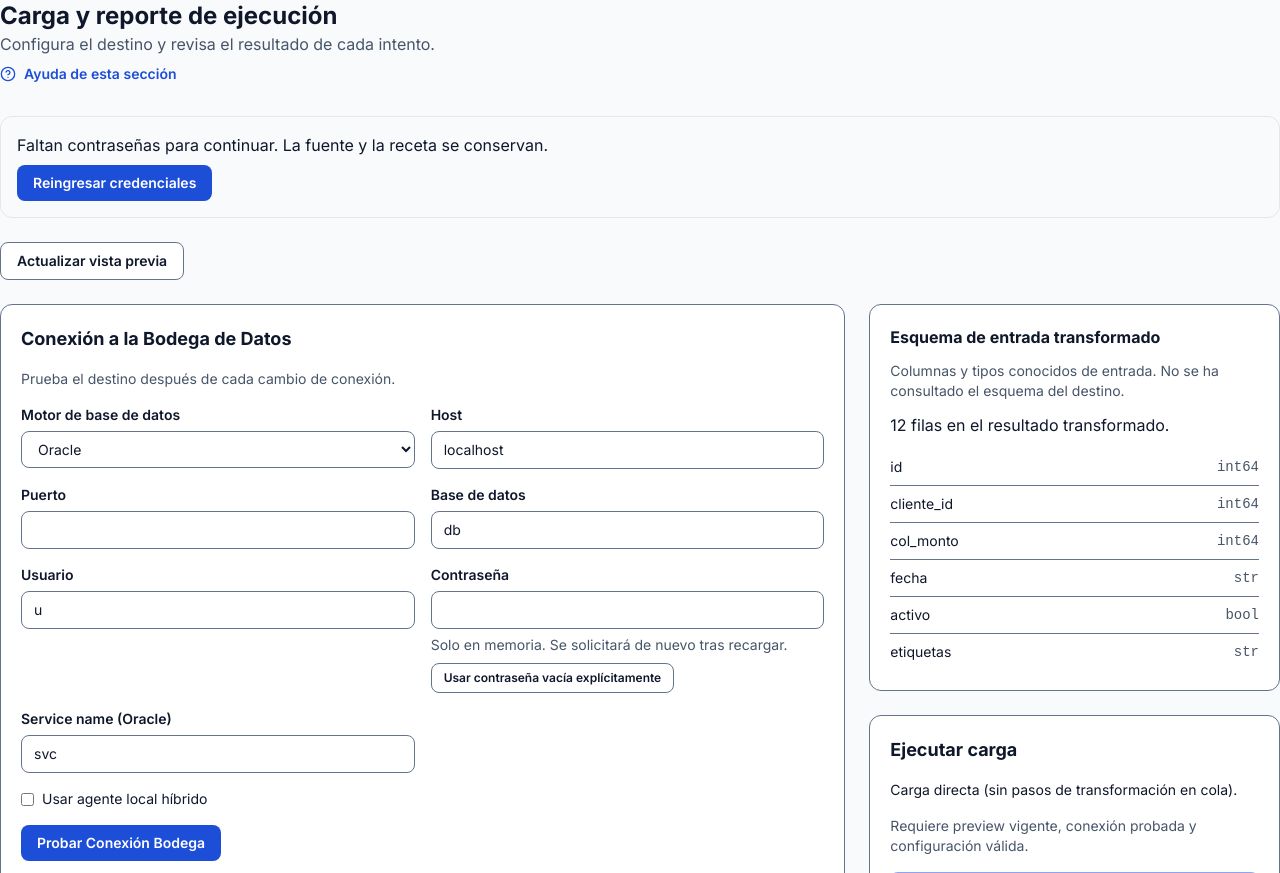
Test: credential recovery UI › destination password is absent after reload, explicit empty recovery allows testing again
Step 1. Click the button "Reingresar credenciales" → coordinates (115, 183), box [17,165,212,201]
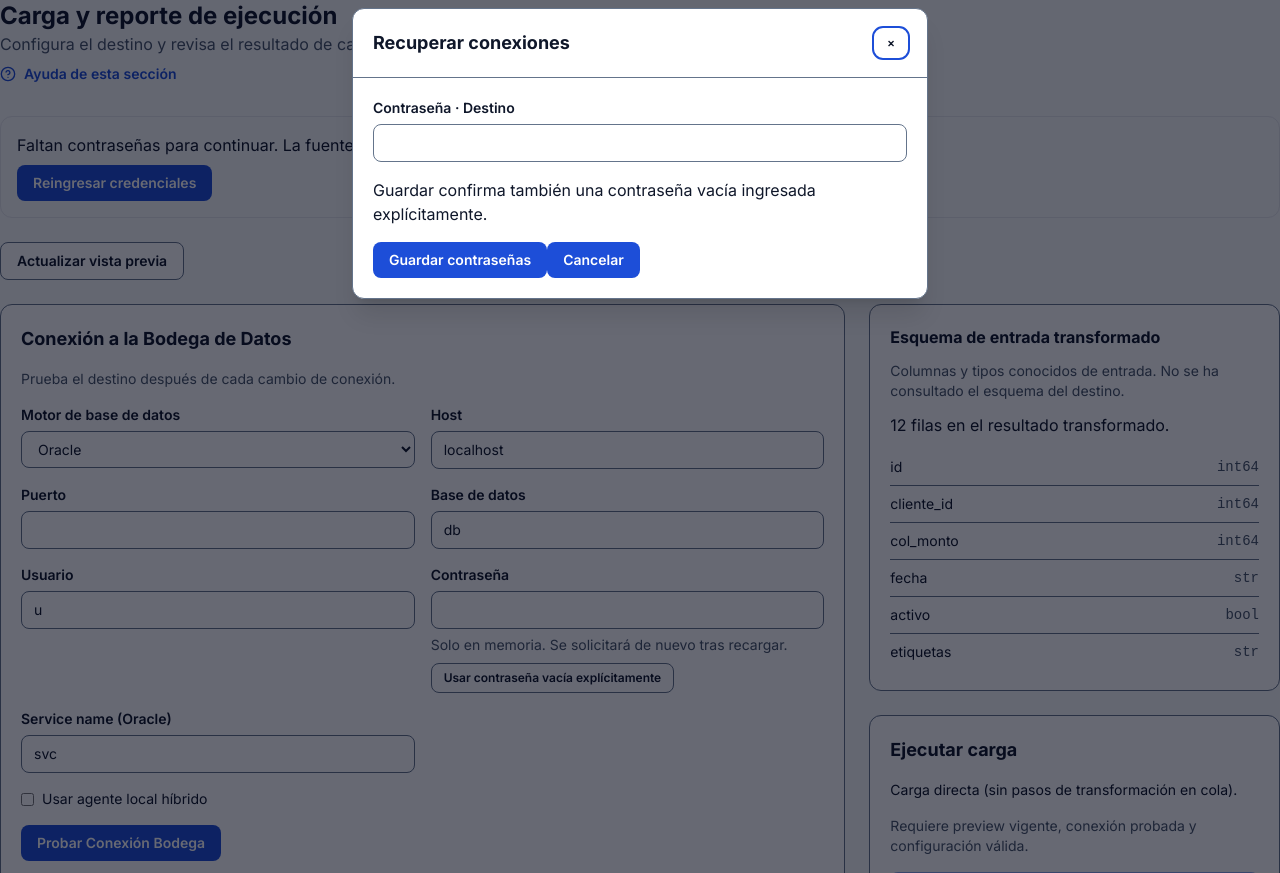
Now the password field labelled "Contraseña · Destino" is empty, box [373,124,907,162]
Step 2. Click the button "Guardar contraseñas" → coordinates (460, 260), box [373,242,547,278]
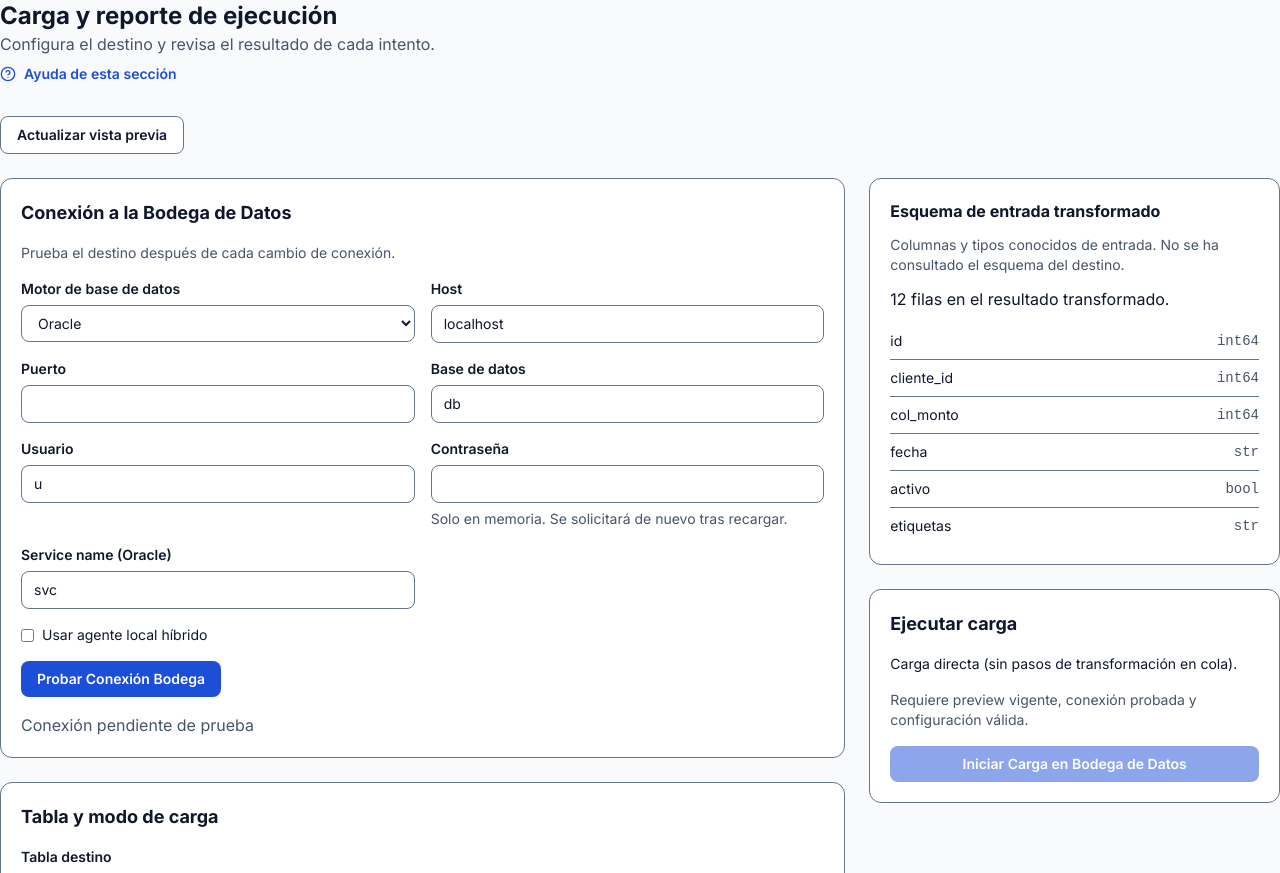
Step 3. Click the button "Probar Conexión Bodega" → coordinates (121, 679), box [21,661,221,697]
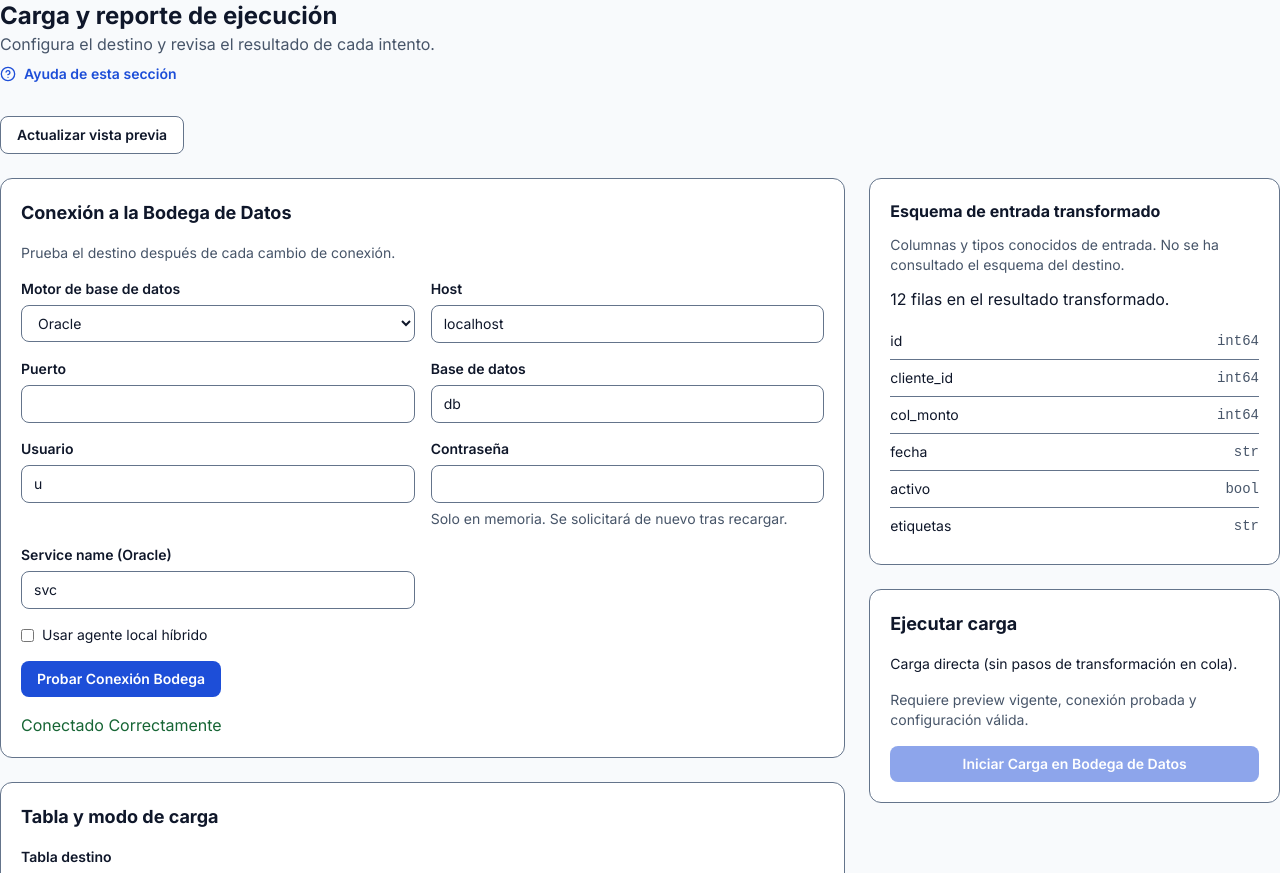
Now the text "Conectado Correctamente" is shown, box [21,715,222,735]
